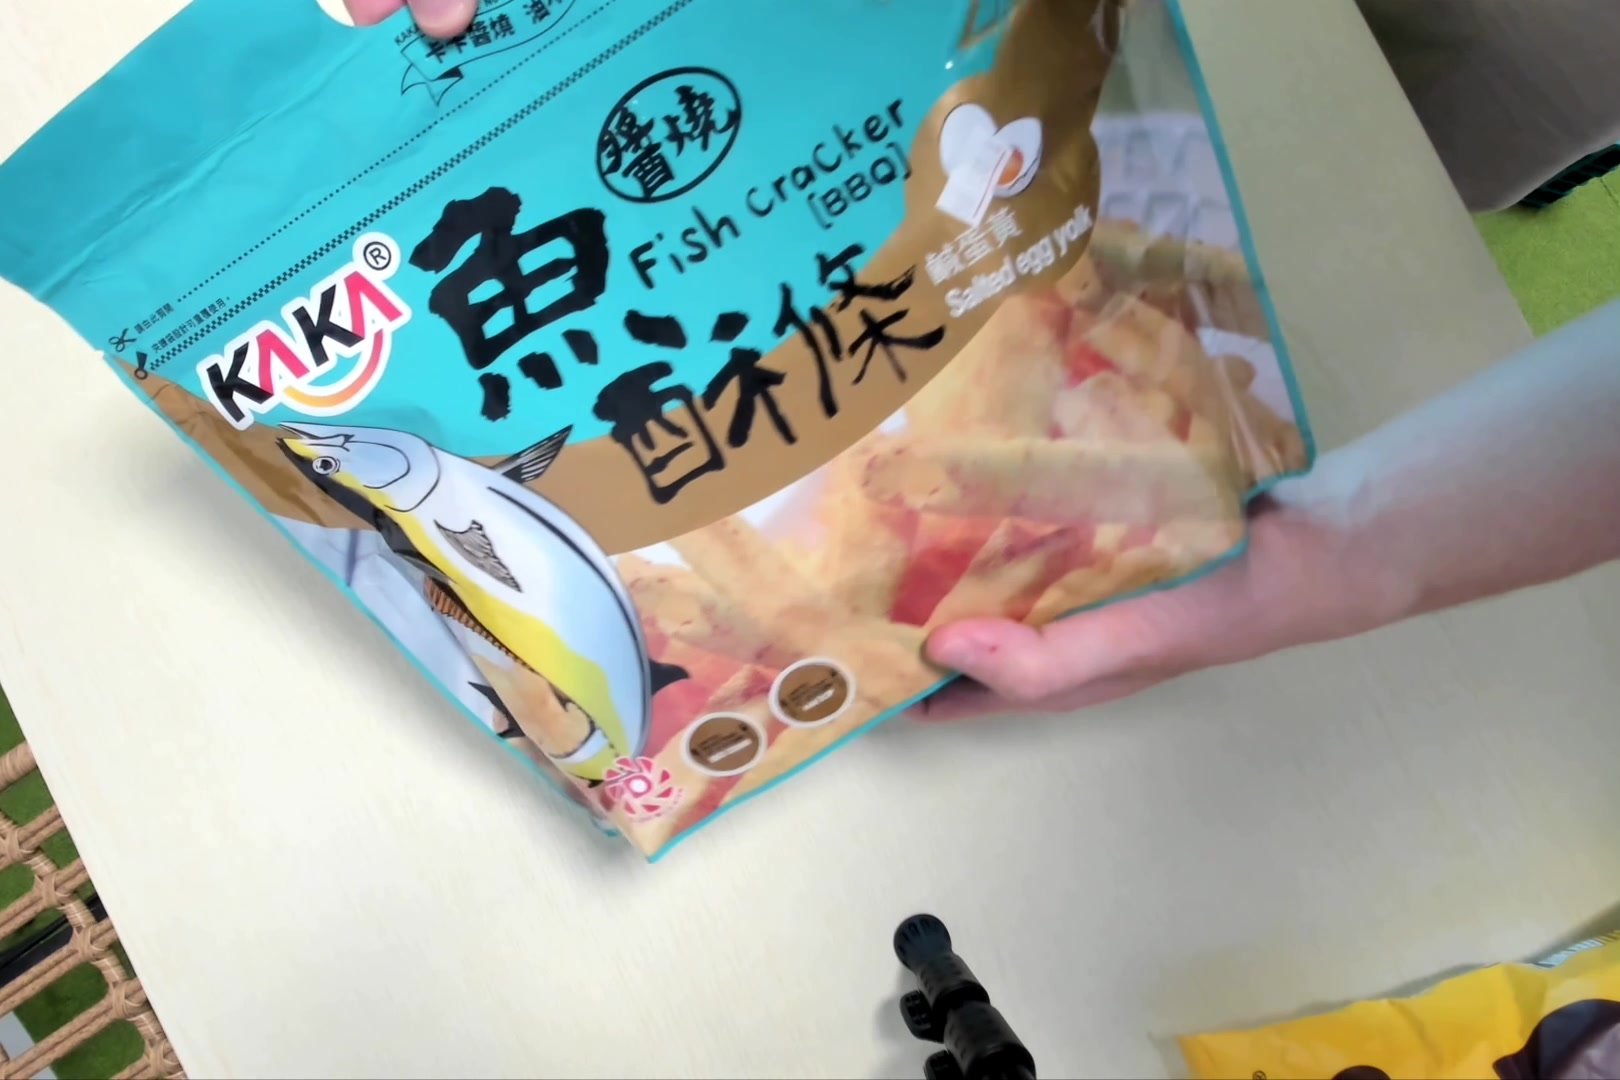PotatoChipsKeropok_100-199g_NonHalal_NonHealthy: (7, 5, 1317, 859)
